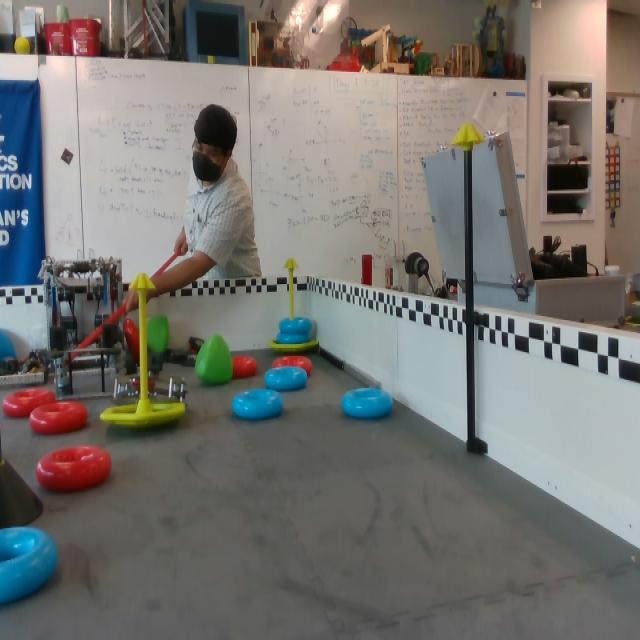Blue-Ring: (0, 527, 60, 609), (339, 385, 393, 423), (231, 388, 284, 421), (263, 367, 309, 395), (280, 317, 312, 333), (276, 332, 310, 343)
Mobile-Goal: (99, 273, 186, 431), (269, 259, 318, 353)
Red-Ring: (35, 445, 112, 493), (27, 401, 88, 435), (0, 385, 56, 421), (272, 356, 313, 375), (125, 319, 140, 365), (230, 356, 258, 379)
Yellow-Stake-Head: (451, 122, 485, 147), (128, 274, 156, 290), (283, 258, 299, 269)
